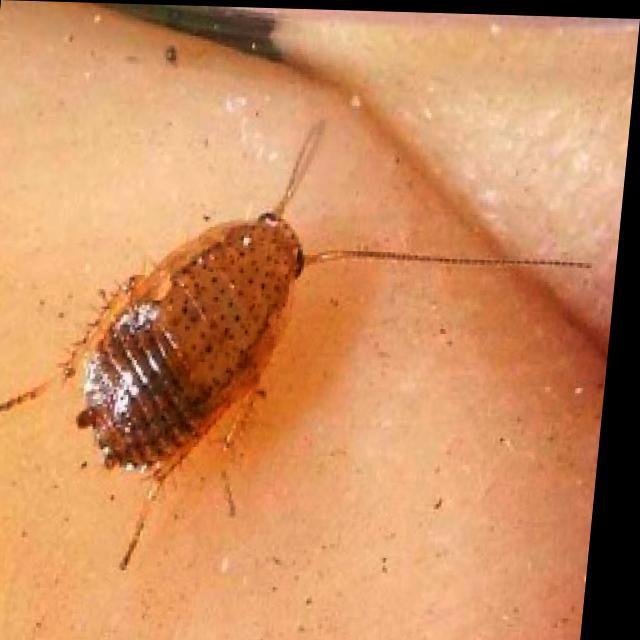cockroach: (75, 214, 307, 474)
